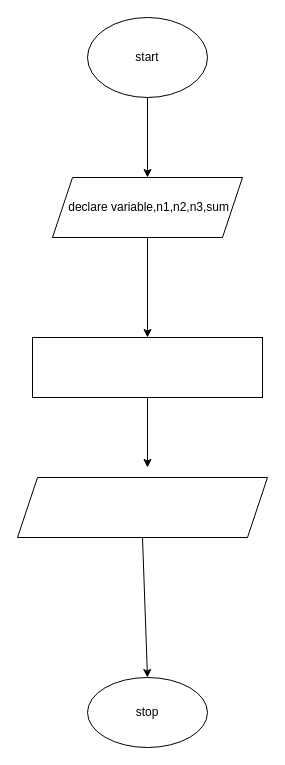
Image size: 285x765. Some labels were removed from this diagram. The centre of each missing label's shape, as x and y in pixels:
print stop: the point at 142,507
sum=n1+n2+n3: the point at 147,367
